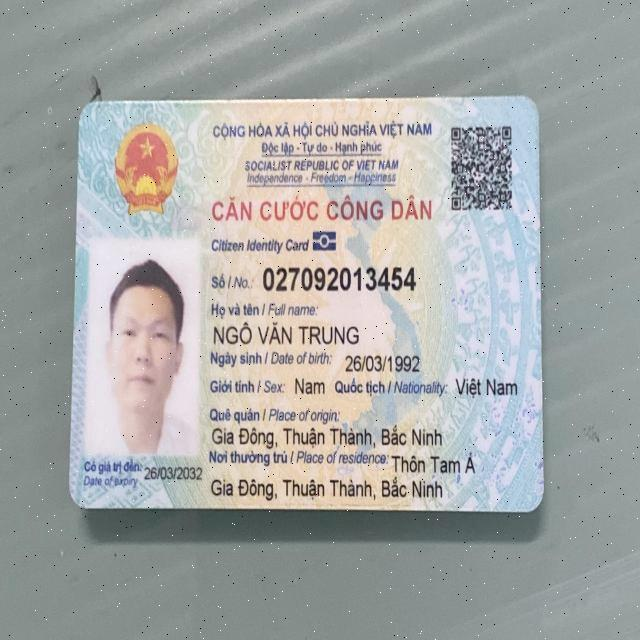current_place: (210, 468, 442, 506), (390, 449, 482, 480)
dob: (341, 350, 425, 375)
expire_date: (142, 464, 205, 485)
gender: (293, 375, 325, 397)
id: (258, 258, 425, 295)
name: (208, 320, 366, 351)
nationality: (450, 375, 521, 400)
origin_place: (208, 420, 445, 452)
qr: (448, 124, 516, 210)
